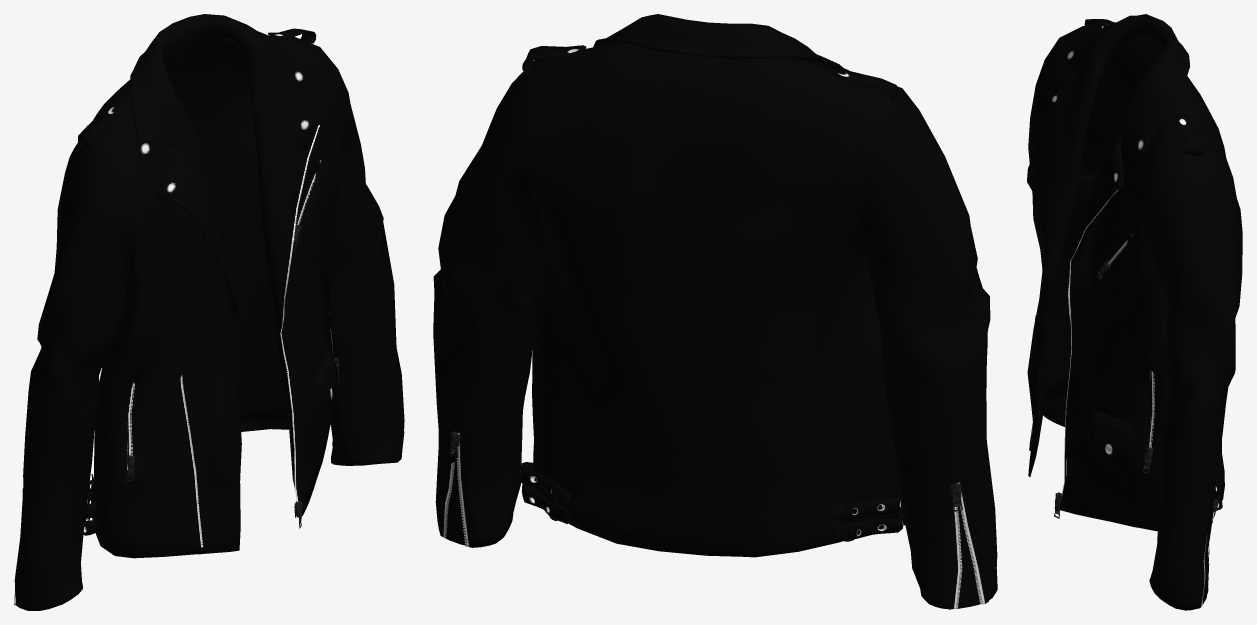
File: YMJ-皮衣.fbx
3 renders of one model, left to right at view 1: azimuth 30°, elevation 25°; view 2: azimuth 150°, elevation 25°; view 3: azimuth 270°, elevation 25°, orthographic. The views are drawn at different scales.
Parts seen in each view (by area): view 1: YMJ-皮衣; view 2: YMJ-皮衣; view 3: YMJ-皮衣.
Part boxes in pixels (left/top/right/bottom): YMJ-皮衣: left=14, top=14, right=404, bottom=610; YMJ-皮衣: left=433, top=14, right=997, bottom=609; YMJ-皮衣: left=1027, top=14, right=1242, bottom=610.
Size of the model in its own units: 0.6696 by 0.2973 by 0.7299.
